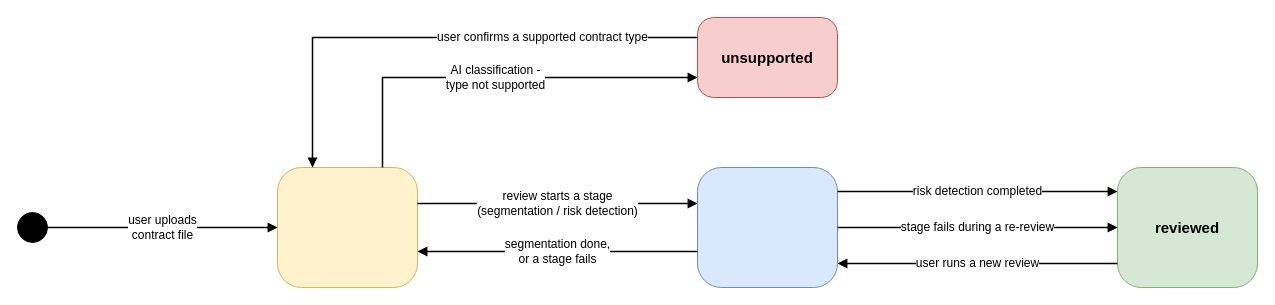
Image size: 1275x305. Some labels were removed from this diagram. Each missing label, with the centre of its shape:
processing: point (767, 227)
uploaded: point (347, 227)
